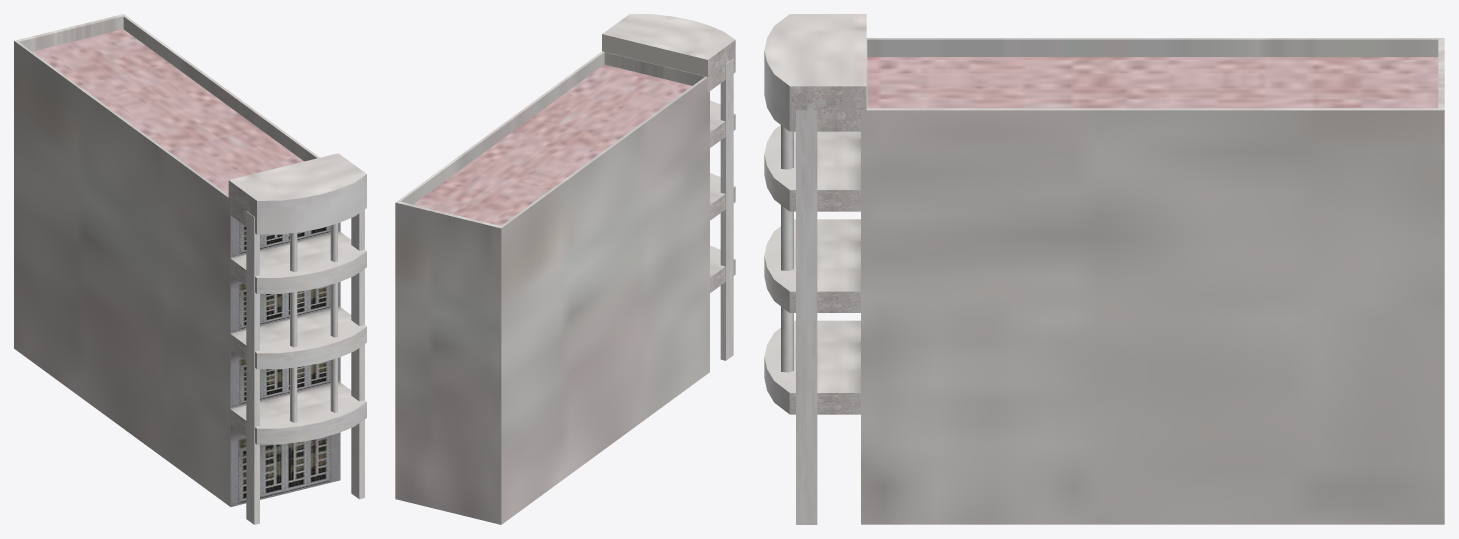
The picture shows the model from 3 angles, left to right: view 1: azimuth 30°, elevation 25°; view 2: azimuth 150°, elevation 25°; view 3: azimuth 270°, elevation 25°; orthographic projection. The views are drawn at different scales.
Visible parts, largest first — view 1: 5db005575bb8830f98dcff2e.001; view 2: 5db005575bb8830f98dcff2e.001; view 3: 5db005575bb8830f98dcff2e.001.
Part boxes in pixels (x1=…): 5db005575bb8830f98dcff2e.001: x1=14, y1=14, x2=366, y2=524; 5db005575bb8830f98dcff2e.001: x1=395, y1=14, x2=735, y2=524; 5db005575bb8830f98dcff2e.001: x1=764, y1=14, x2=1444, y2=524.
Size of the model in its own units: 5.38 by 15.13 by 21.26.
1 material, 1 textured.
